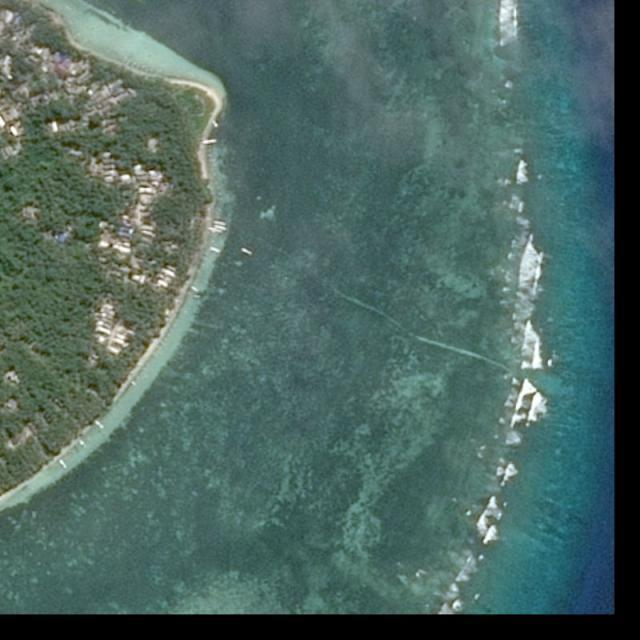ship: (240, 246, 254, 257)
